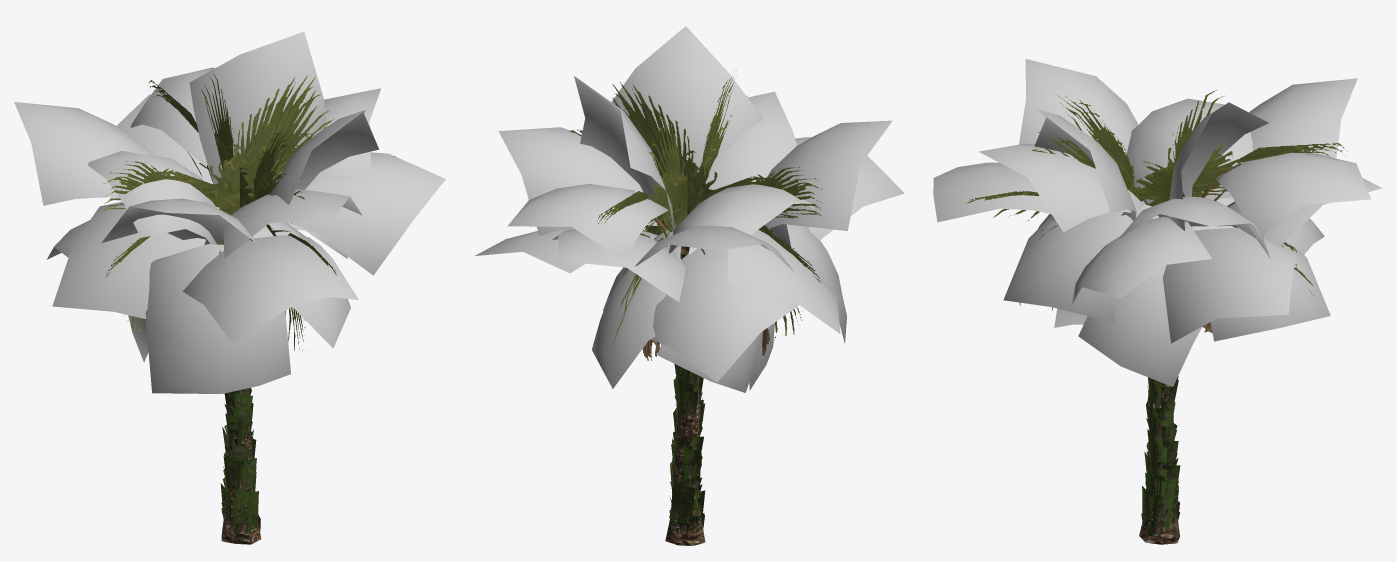
File: Fan2.fbx
3 renders of one model, left to right at view 1: azimuth 30°, elevation 25°; view 2: azimuth 150°, elevation 25°; view 3: azimuth 270°, elevation 25°, orthographic.
Visible parts, largest first — view 1: LOD0, Billboard; view 2: LOD0, Billboard; view 3: LOD0, Billboard.
Boxes of the visible parts, left/top/right/bottom form: LOD0: left=14, top=31, right=445, bottom=544; Billboard: left=101, top=73, right=395, bottom=526; LOD0: left=475, top=26, right=904, bottom=545; Billboard: left=569, top=68, right=822, bottom=528; LOD0: left=933, top=59, right=1382, bottom=544; Billboard: left=961, top=89, right=1347, bottom=506.
Size of what is drawn, in the model's own units: 369 by 460 by 402.
